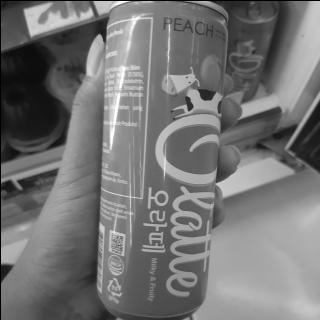alumunium_can: (82, 0, 228, 320)
